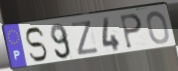4: (101, 16, 122, 53)
9: (50, 22, 73, 61)
O: (146, 10, 171, 46)
P: (119, 13, 144, 50)
S: (24, 26, 49, 63)
Z: (70, 19, 101, 57)
